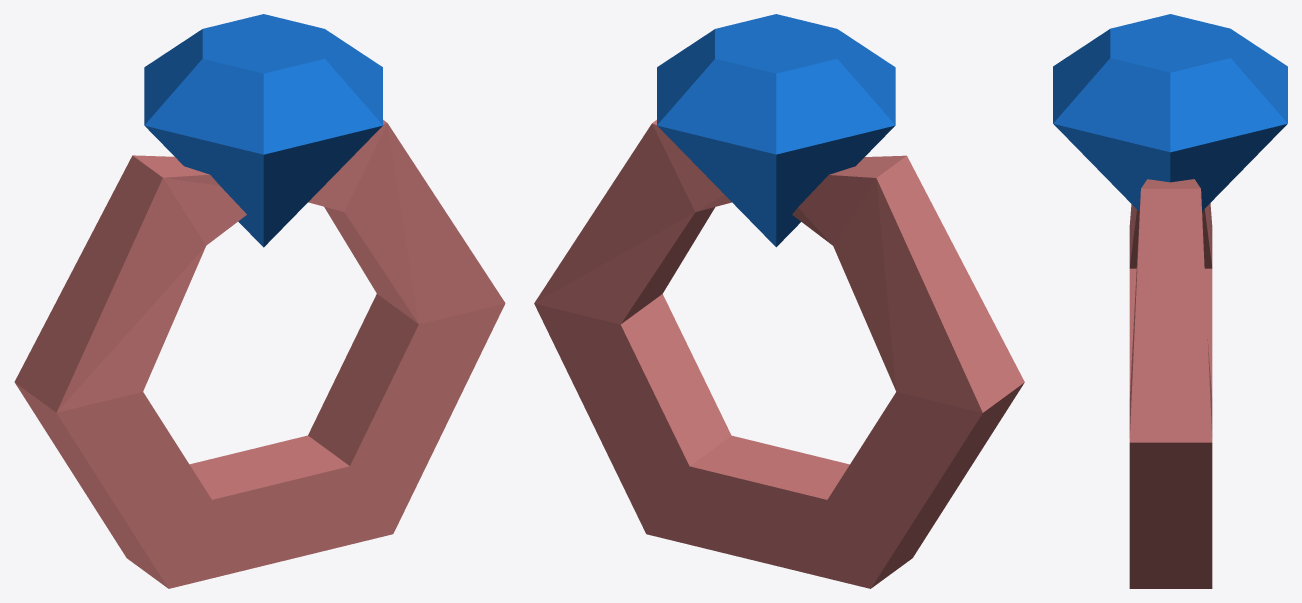
File: SM_ring_3.fbx
3 views of the same model, side by side, from view 1: azimuth 30°, elevation 25°; view 2: azimuth 150°, elevation 25°; view 3: azimuth 270°, elevation 25° (orthographic).
Visible parts, largest first — view 1: Tube_8; view 2: Tube_8; view 3: Tube_8.
Part boxes in pixels (x1,y1,x2,y2): Tube_8: [14, 14, 505, 588]; Tube_8: [534, 14, 1024, 588]; Tube_8: [1053, 14, 1287, 588].
Bounding box in the file's own units: 3.39 × 3.61 × 1.56.
